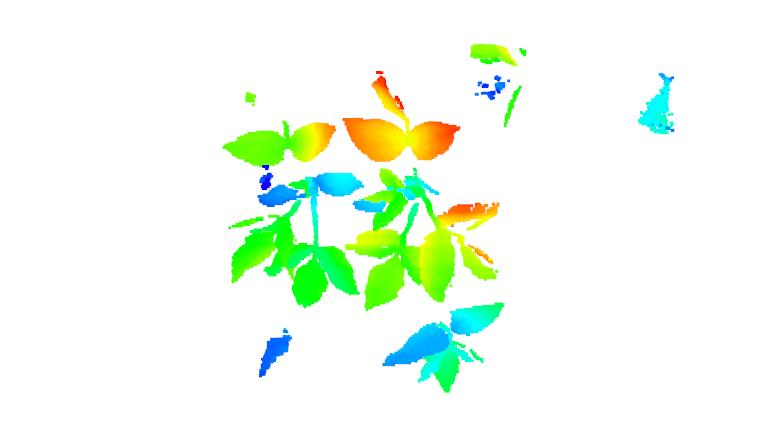mungbean: (336, 72, 522, 311), (219, 106, 364, 310), (377, 300, 510, 395)
